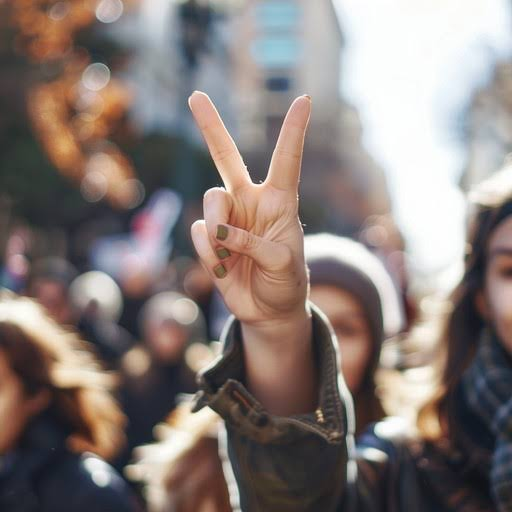peace_sign: (178, 81, 322, 317)
